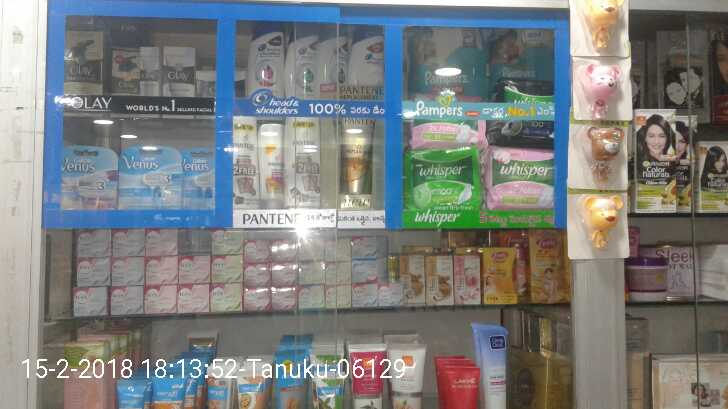venus: (60, 147, 119, 209), (119, 147, 177, 209), (177, 148, 217, 209)
